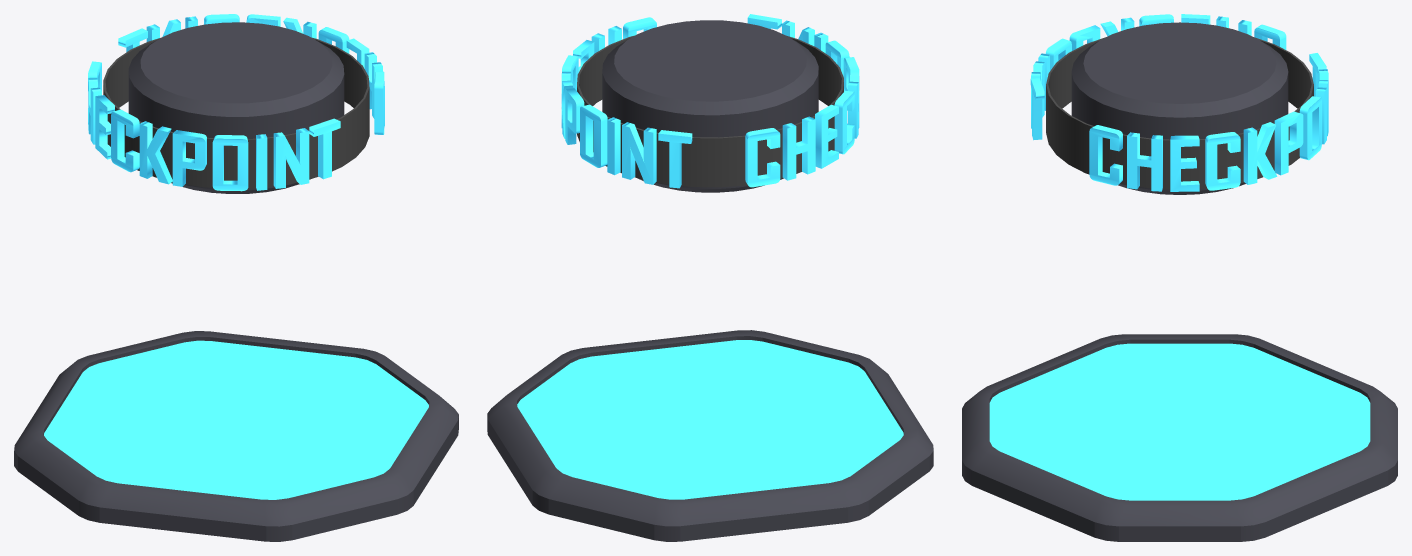
File: CheckpointPad.glb
The picture shows the model from 3 angles, left to right: view 1: azimuth 30°, elevation 25°; view 2: azimuth 150°, elevation 25°; view 3: azimuth 270°, elevation 25°; orthographic projection.
Visible parts, largest first — view 1: Meshes, TextMeshes; view 2: Meshes, TextMeshes; view 3: Meshes, TextMeshes.
Part boxes in pixels (bbox=[...]): Meshes: bbox=[14, 22, 458, 541]; TextMeshes: bbox=[88, 14, 384, 191]; Meshes: bbox=[487, 20, 933, 541]; TextMeshes: bbox=[561, 14, 859, 188]; Meshes: bbox=[962, 22, 1397, 541]; TextMeshes: bbox=[1030, 14, 1328, 191].
Size of what is drawn, in the model's own units: 1.76 by 1.72 by 1.76.
